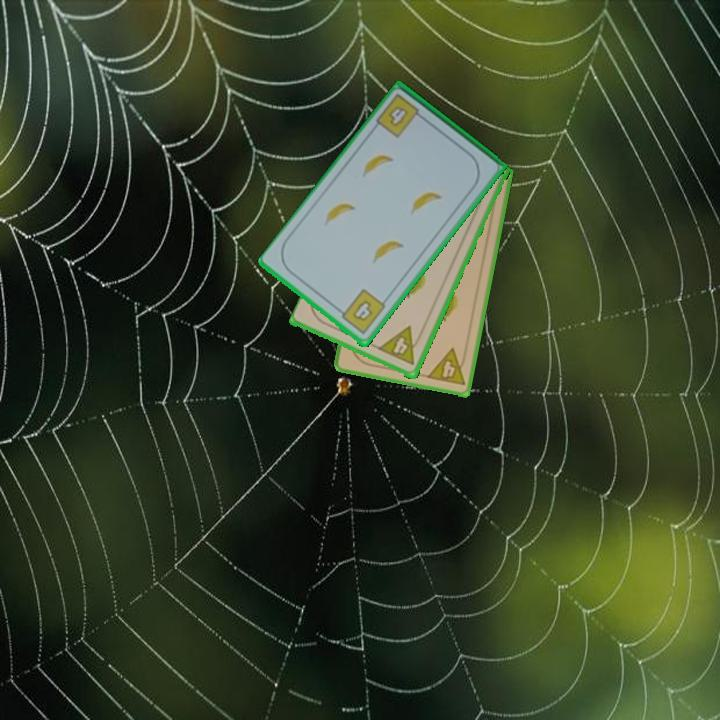4b: (373, 90, 429, 141), (334, 286, 388, 338)
4p: (375, 323, 426, 368), (423, 345, 470, 389)
